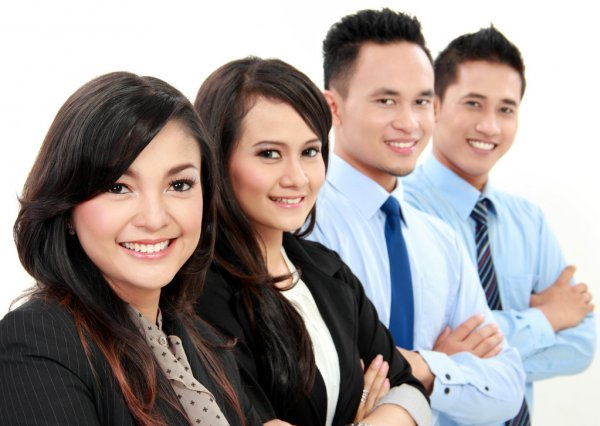bare: (71, 205, 205, 284), (235, 165, 328, 231), (349, 110, 432, 176), (443, 117, 519, 178)
